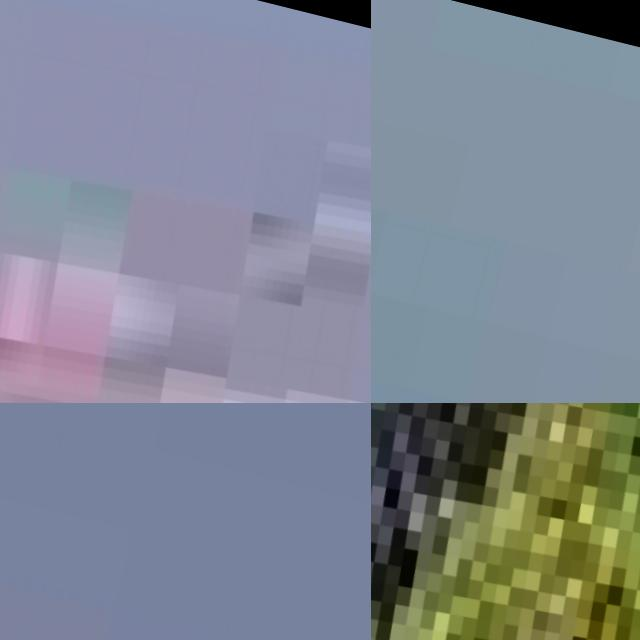0: (0, 0, 371, 403)
drone: (371, 403, 640, 640)
